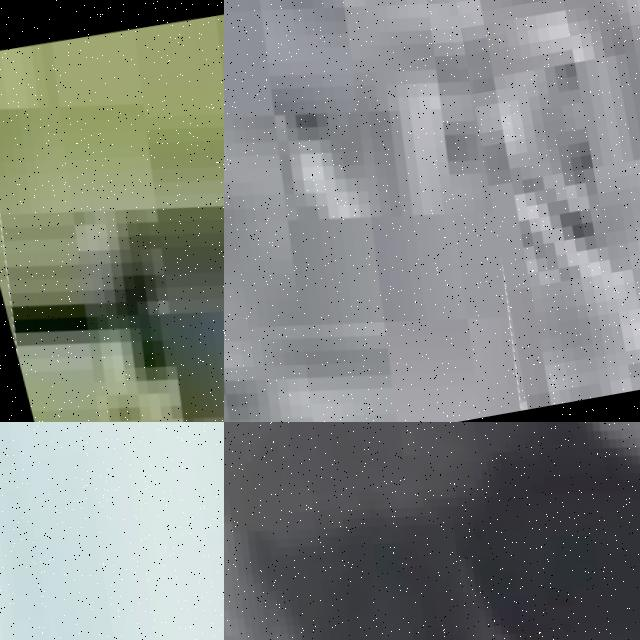drone: (224, 0, 527, 422), (0, 0, 224, 422), (224, 422, 640, 640)
